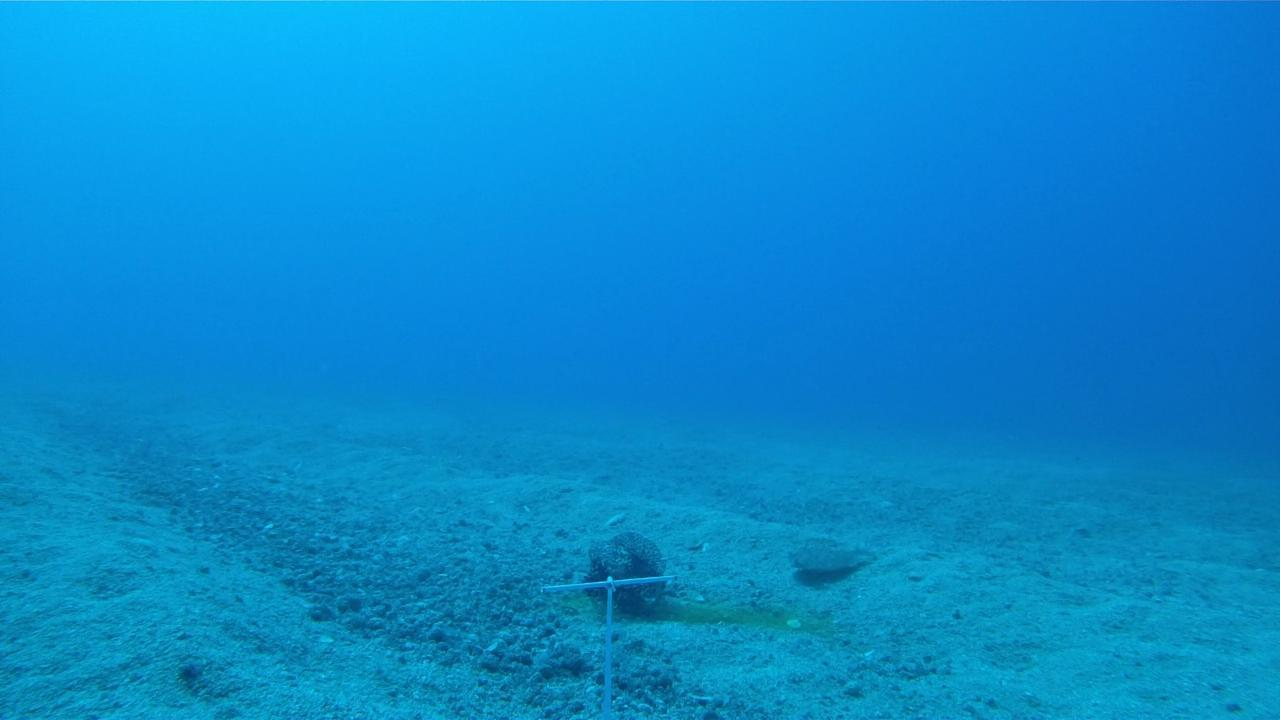bothus: (785, 540, 876, 574)
